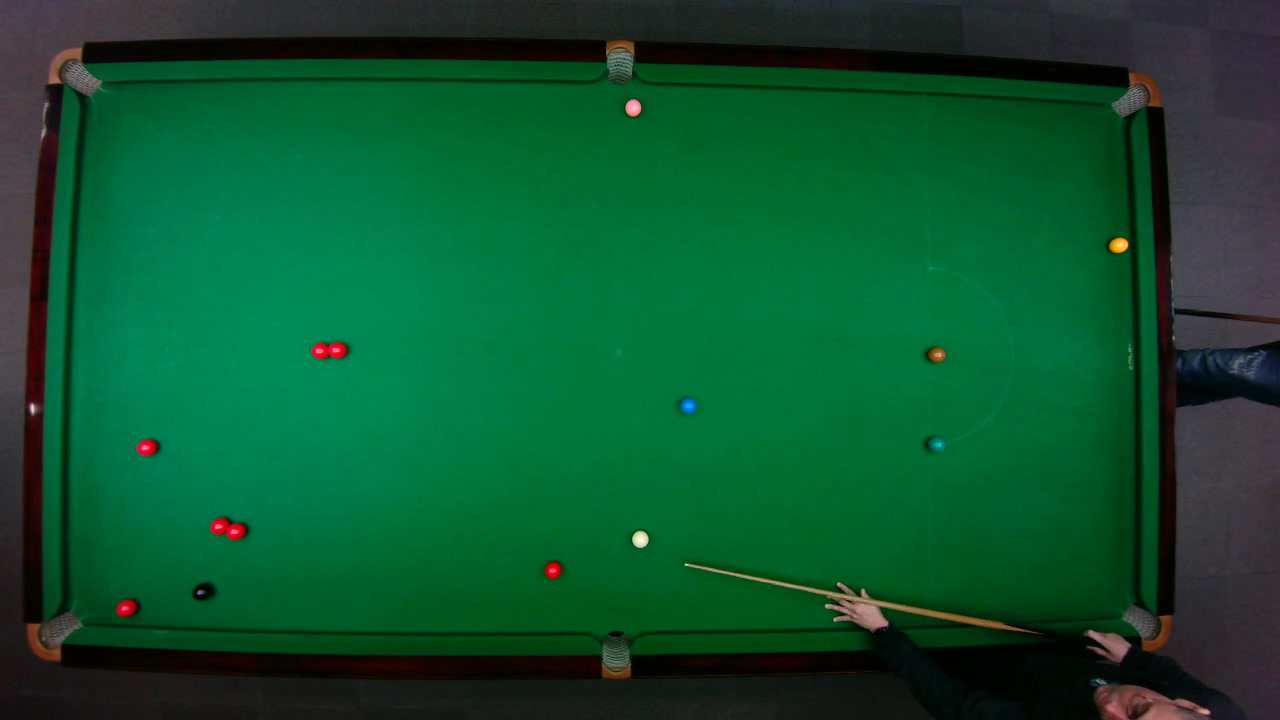bag: (24, 609, 83, 661), (46, 46, 102, 96), (1119, 603, 1172, 651), (1108, 71, 1161, 117), (601, 629, 630, 679), (605, 38, 633, 85)
black: (191, 582, 212, 601)
blue: (678, 396, 697, 414)
brown: (926, 345, 945, 362)
cue: (684, 560, 1100, 652)
green: (926, 434, 946, 452)
pink: (623, 97, 642, 117)
red: (207, 516, 231, 536), (224, 520, 247, 540), (114, 597, 138, 616), (135, 437, 158, 455), (542, 559, 562, 579), (326, 340, 347, 359), (310, 341, 330, 359)
white: (630, 529, 649, 548)
yellow: (1107, 236, 1129, 253)
zone: (926, 265, 1013, 445)
